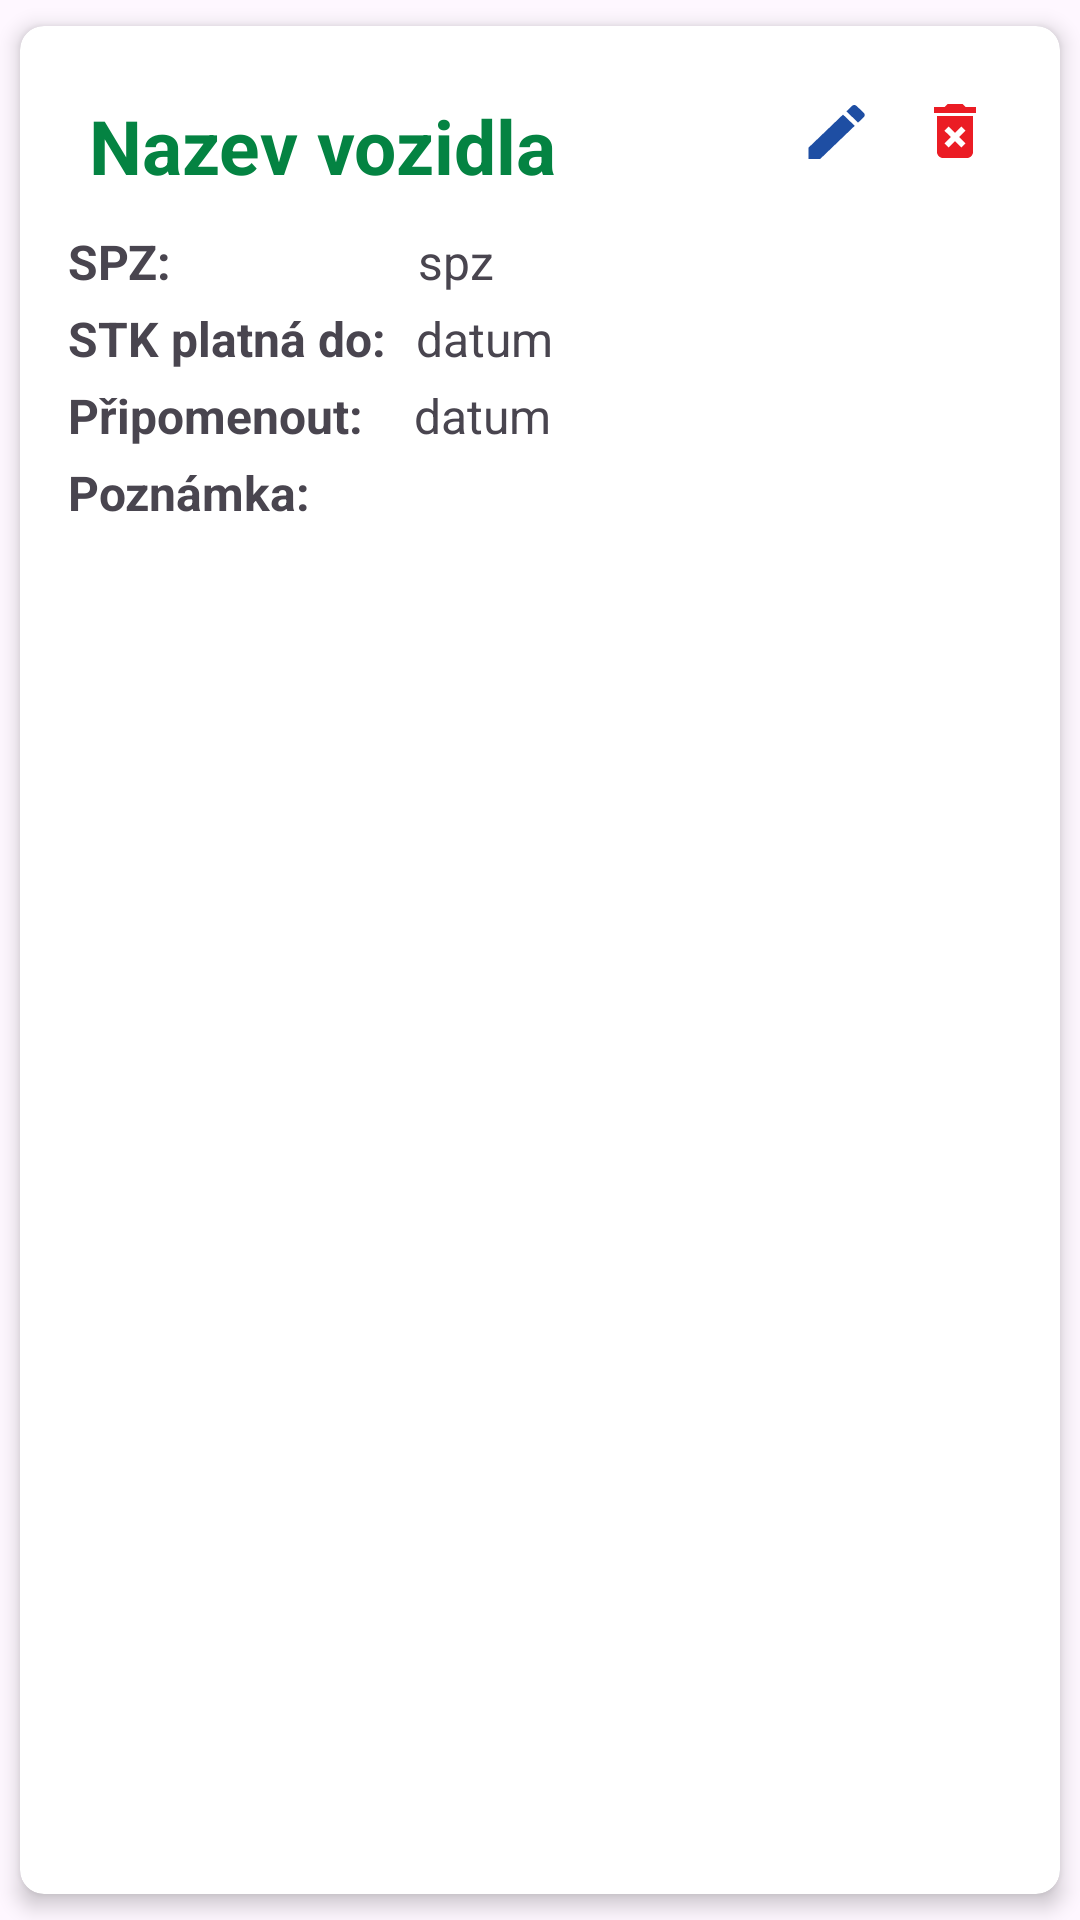

Screen size 1080w x 1920h. Icon name, then its box in pixels as Rect(x1, y1, x2, y2):
delete forever: Rect(934, 104, 976, 158)
mode edit: Rect(808, 105, 865, 159)
